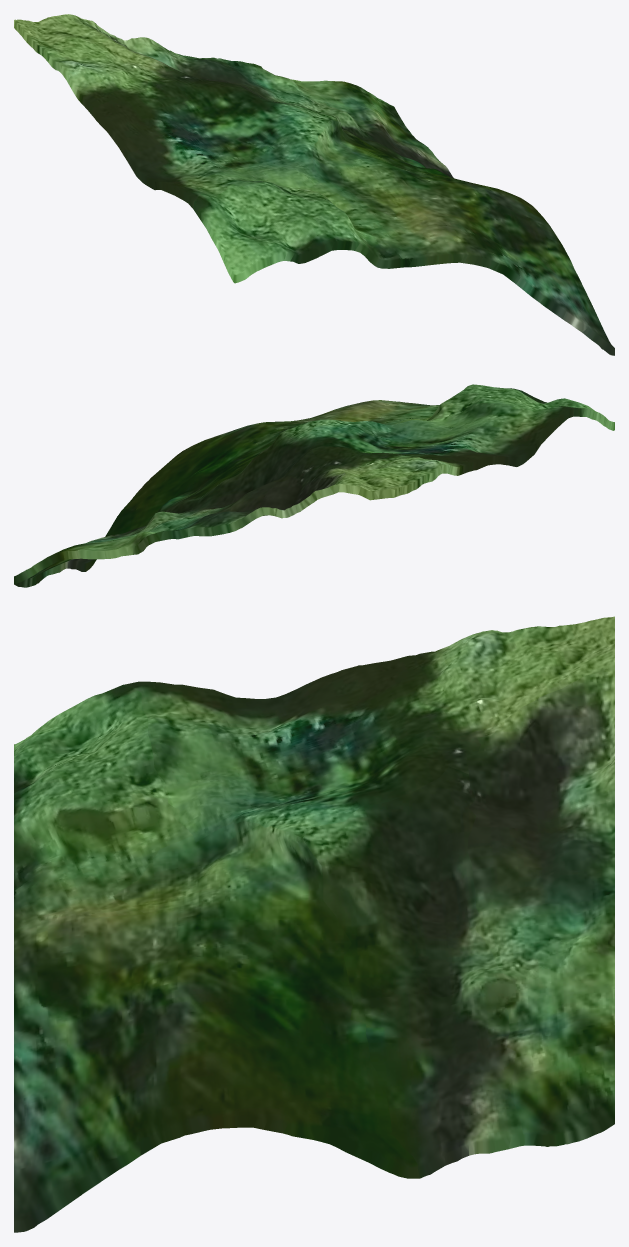
File: z20-167561-405172-h0-yup-uvflip-v3-world.glb
3 views of the same model, one above another, from view 1: azimuth 30°, elevation 25°; view 2: azimuth 150°, elevation 25°; view 3: azimuth 270°, elevation 25° (orthographic). The views are drawn at different scales.
Size of the model in its own units: 30.16 by 20.24 by 30.32.
Materials: 1 (1 with a texture image).
